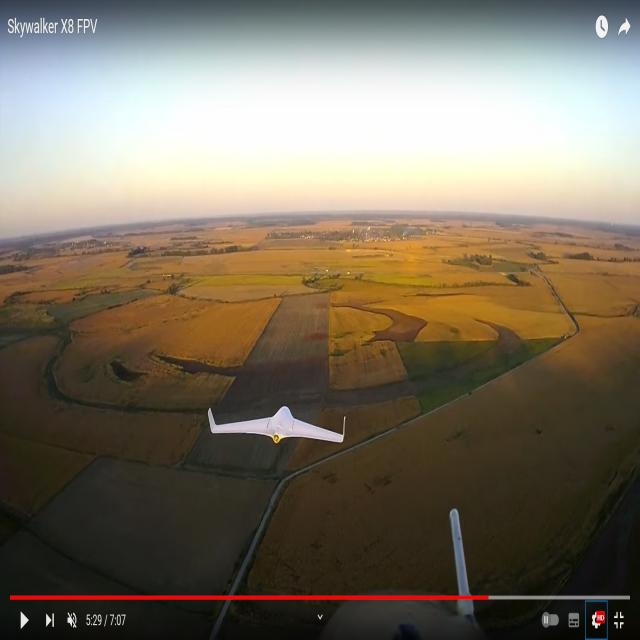iha: (211, 391, 344, 453)
